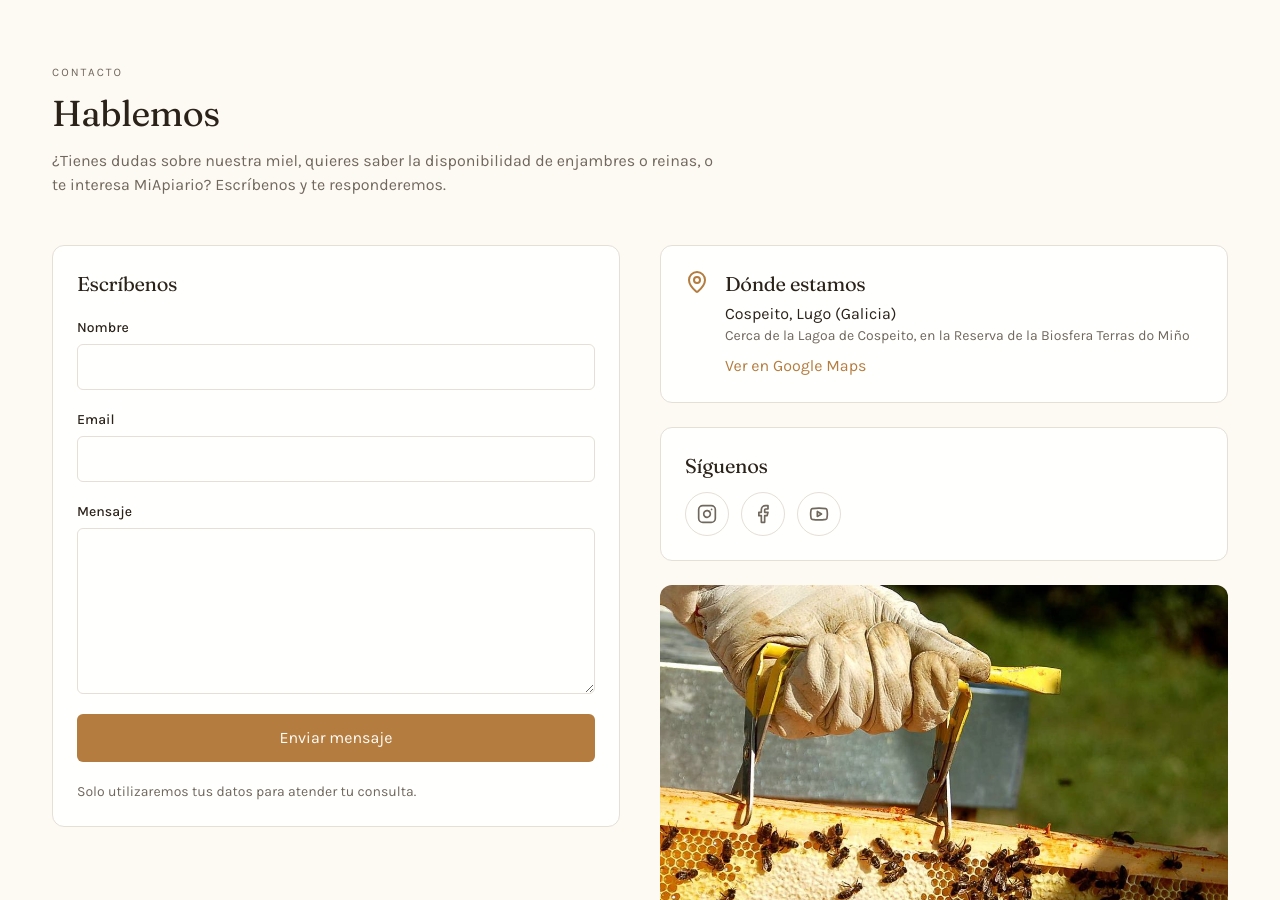
Test case: ContactView › envía el mensaje con el token del captcha y vacía el formulario
The width and height of the screenshot is (1280, 900).
In the field with id "contact-name": (336, 367) [77,344,595,390], type "Ana"
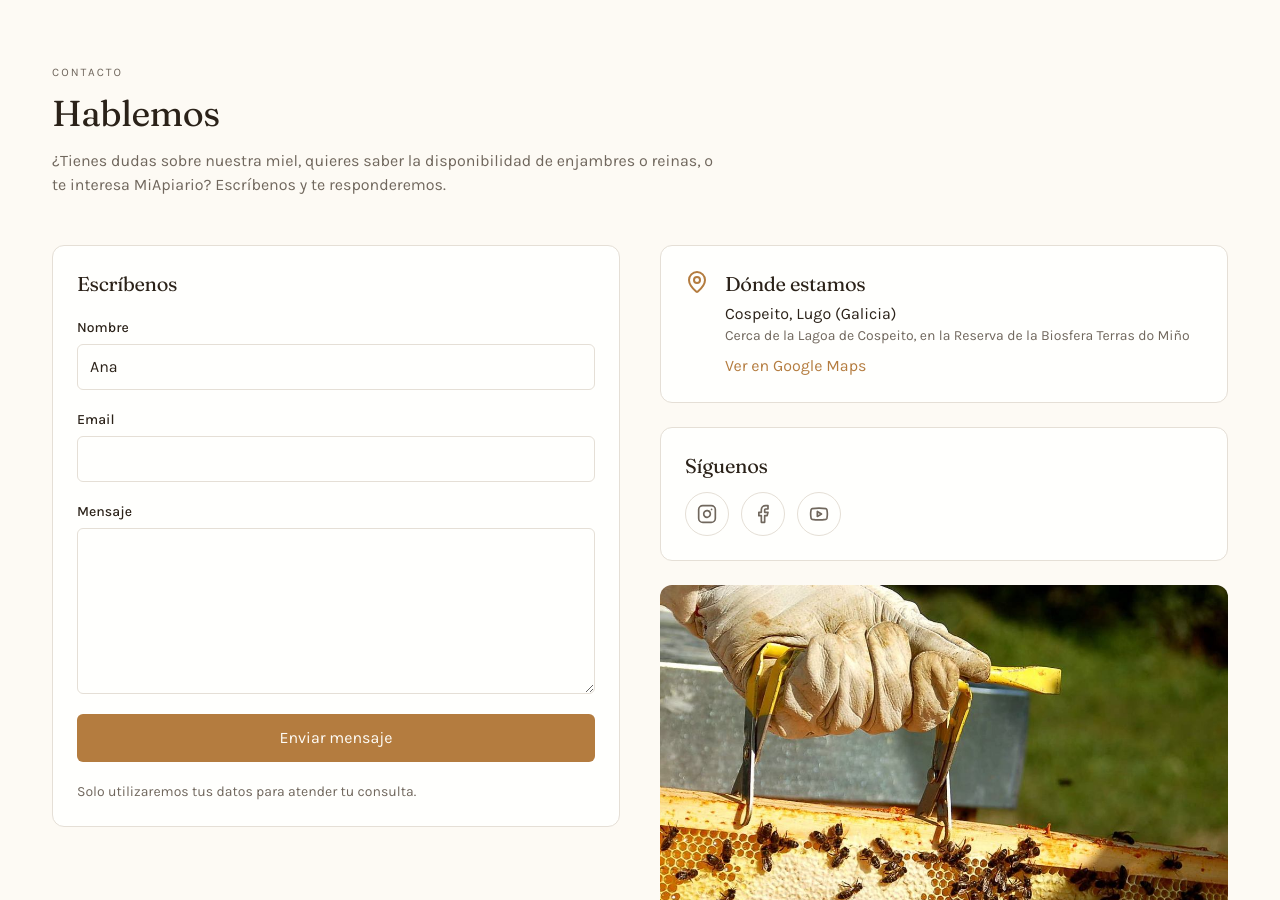
In the field with id "contact-email": (336, 459) [77,436,595,482], type "ana@test.com"
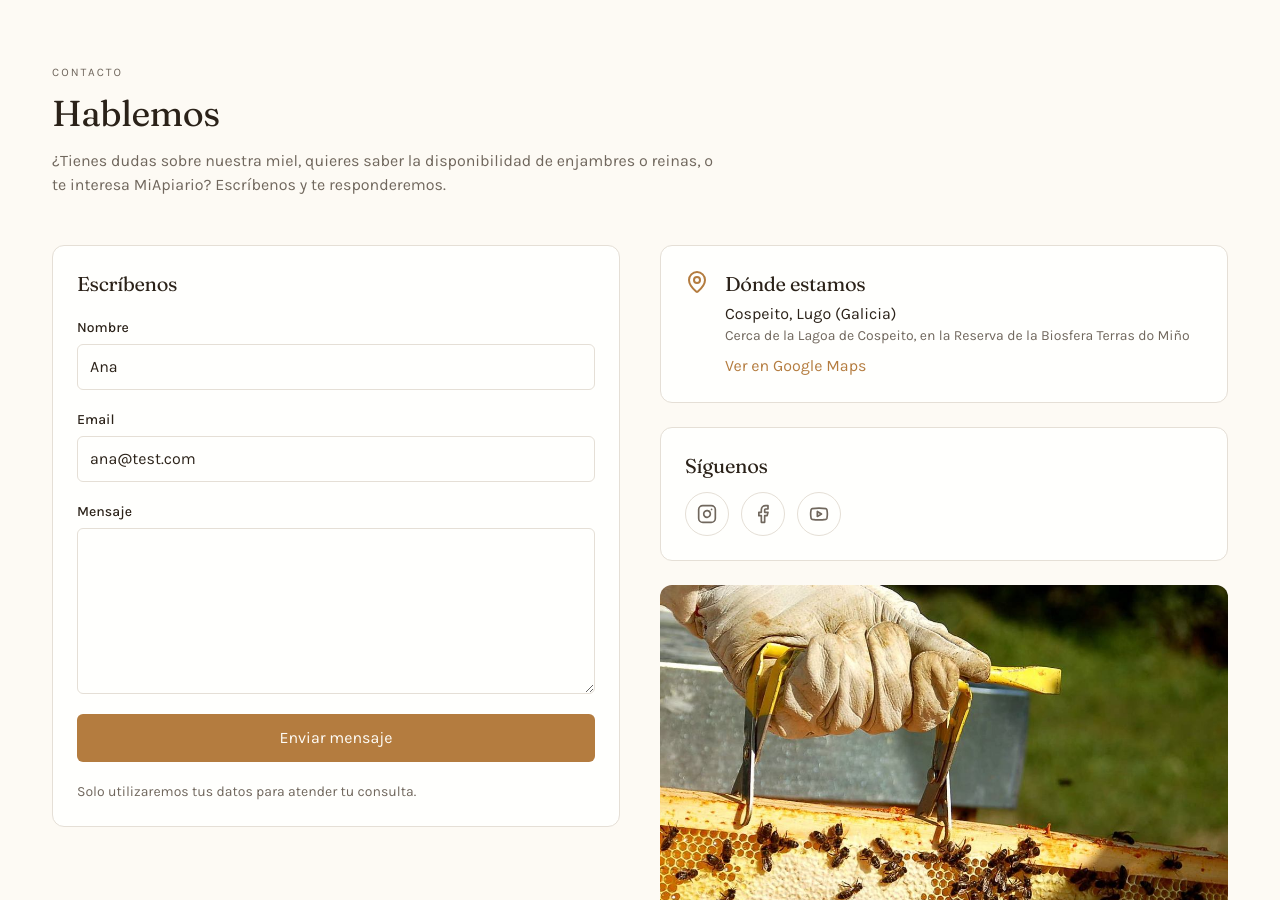
In the text box with id "contact-message": (336, 611) [77,528,595,694], type "¿Tenéis miel de castaño?"
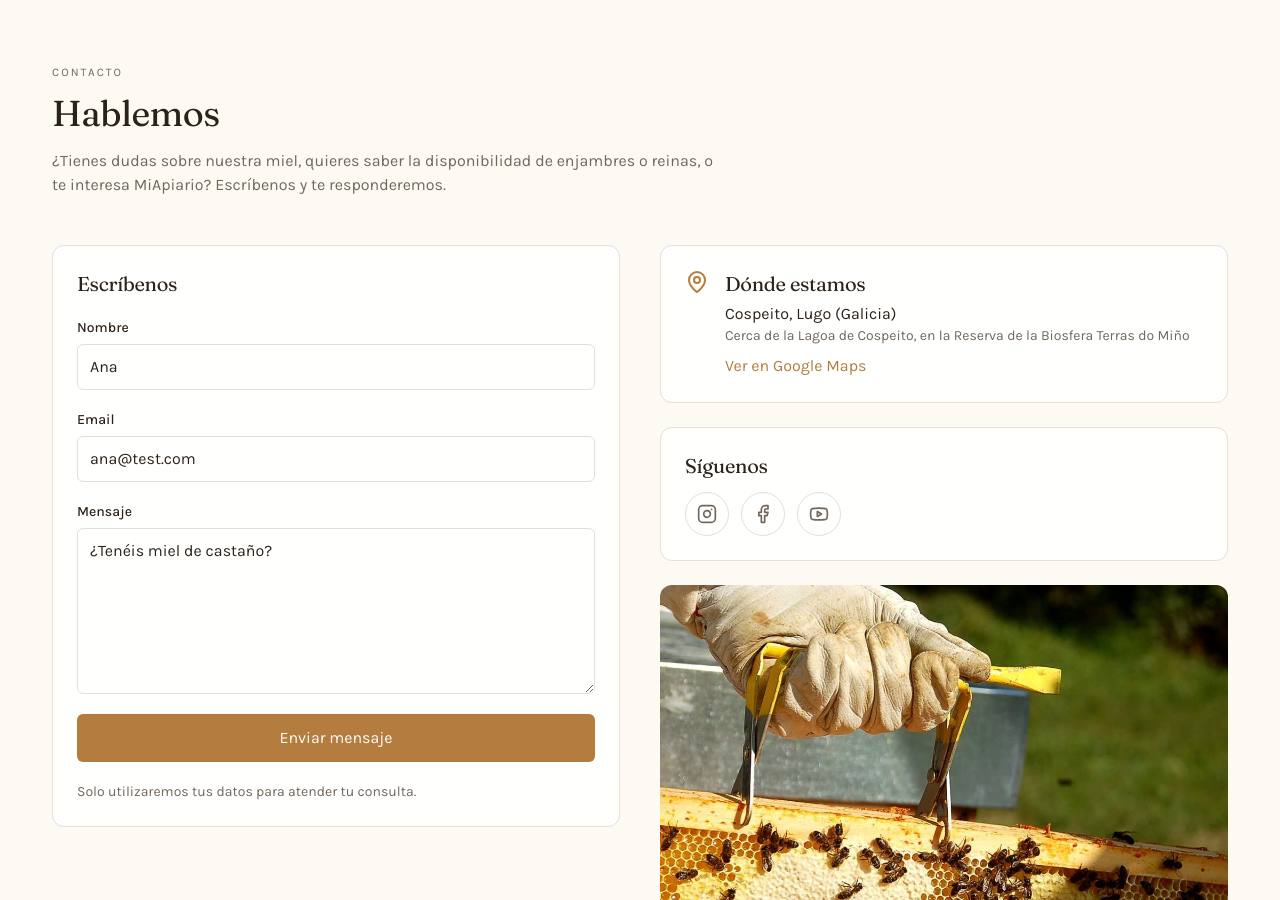
Submit the form, box [77,318,595,802]
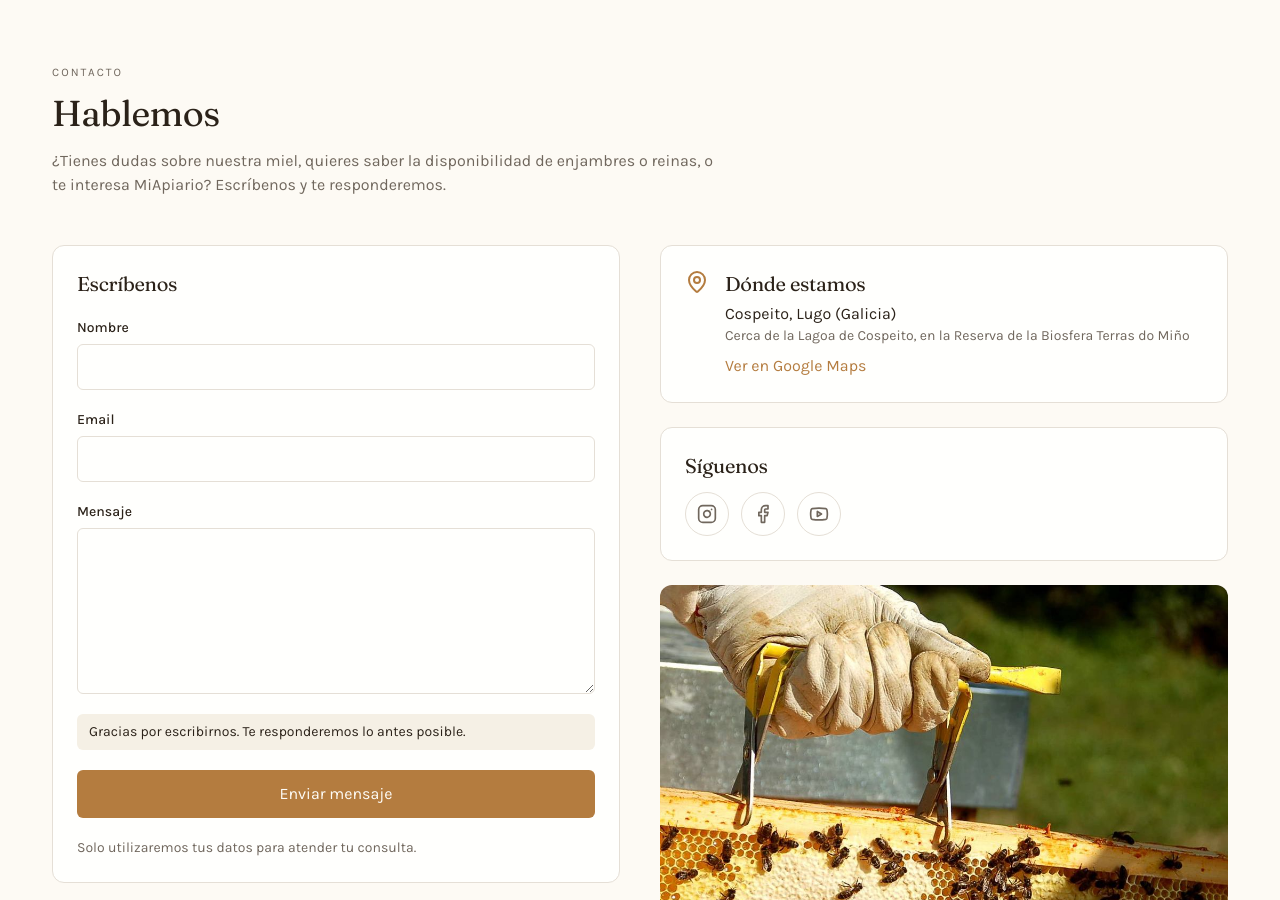
Result: the message "Gracias por escribirnos. Te responderemos lo antes posible." is shown at [77,714,595,750]
Result: the field with id "contact-name" is empty at [77,344,595,390]
